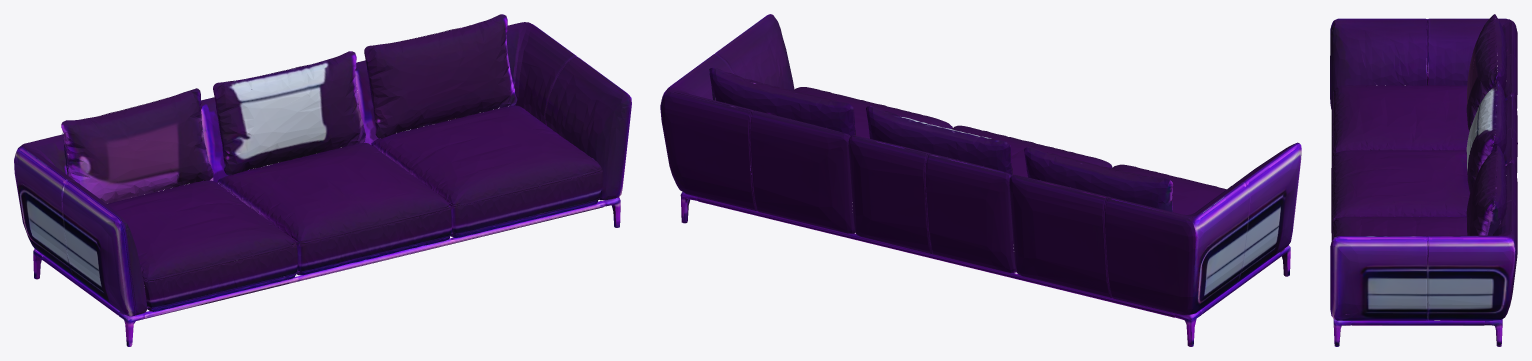
The model's file is edited_mesh.glb.
3 renders of one model, left to right at view 1: azimuth 30°, elevation 25°; view 2: azimuth 150°, elevation 25°; view 3: azimuth 270°, elevation 25°, orthographic. The views are drawn at different scales.
Parts seen in each view (by area): view 1: solid_001_wire; view 2: solid_001_wire; view 3: solid_001_wire.
Part boxes in pixels (x1,y1,x2,y2): solid_001_wire: (14,14,631,346); solid_001_wire: (660,14,1301,346); solid_001_wire: (1330,14,1517,346).
Bounding box in the file's own units: 2 × 0.5632 × 0.7137.
Materials: 1 (1 with a texture image).
